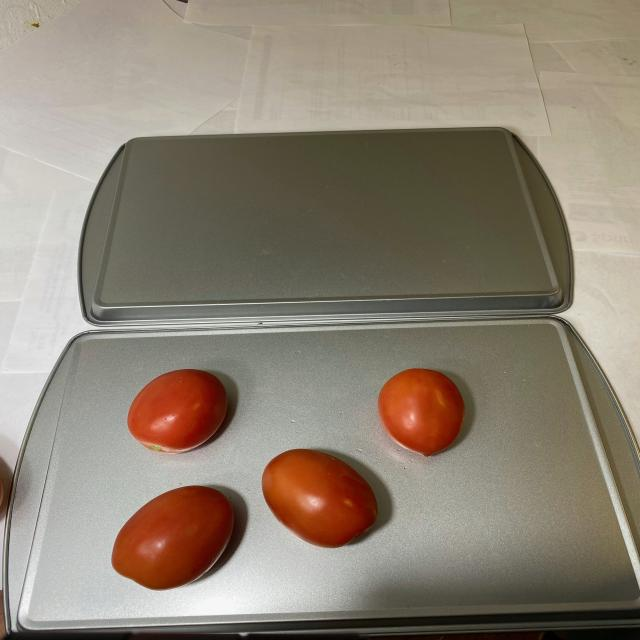tomato: (106, 367, 467, 590)
